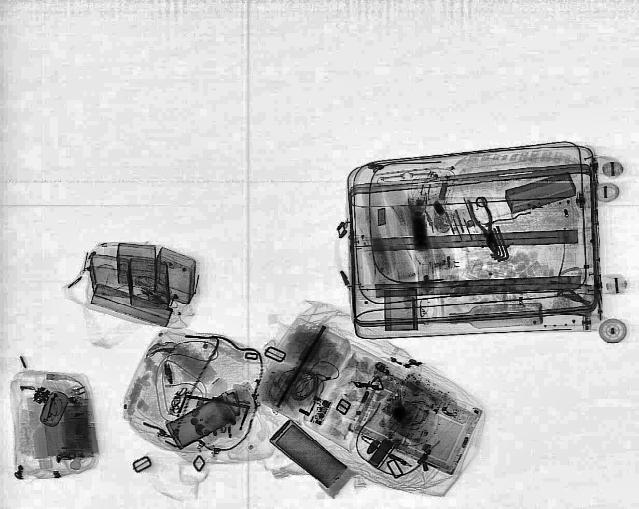Pliers: (465, 195, 507, 255)
